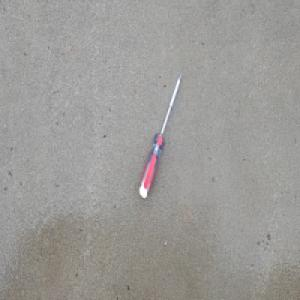Screwdriver: (138, 70, 182, 200)
